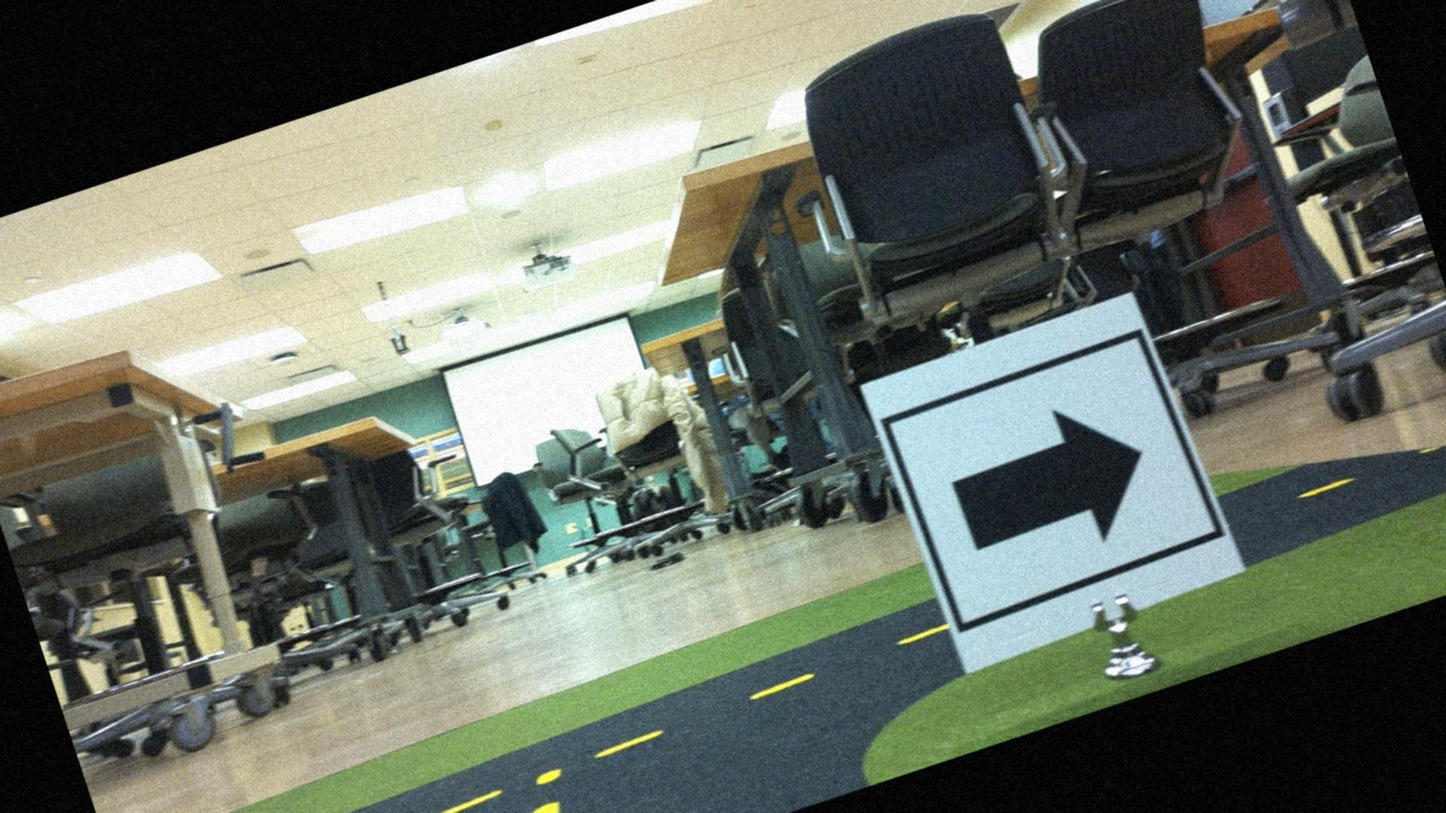turnleft: (871, 299, 1223, 668)
yellowline: (123, 624, 951, 812), (499, 799, 579, 812)
